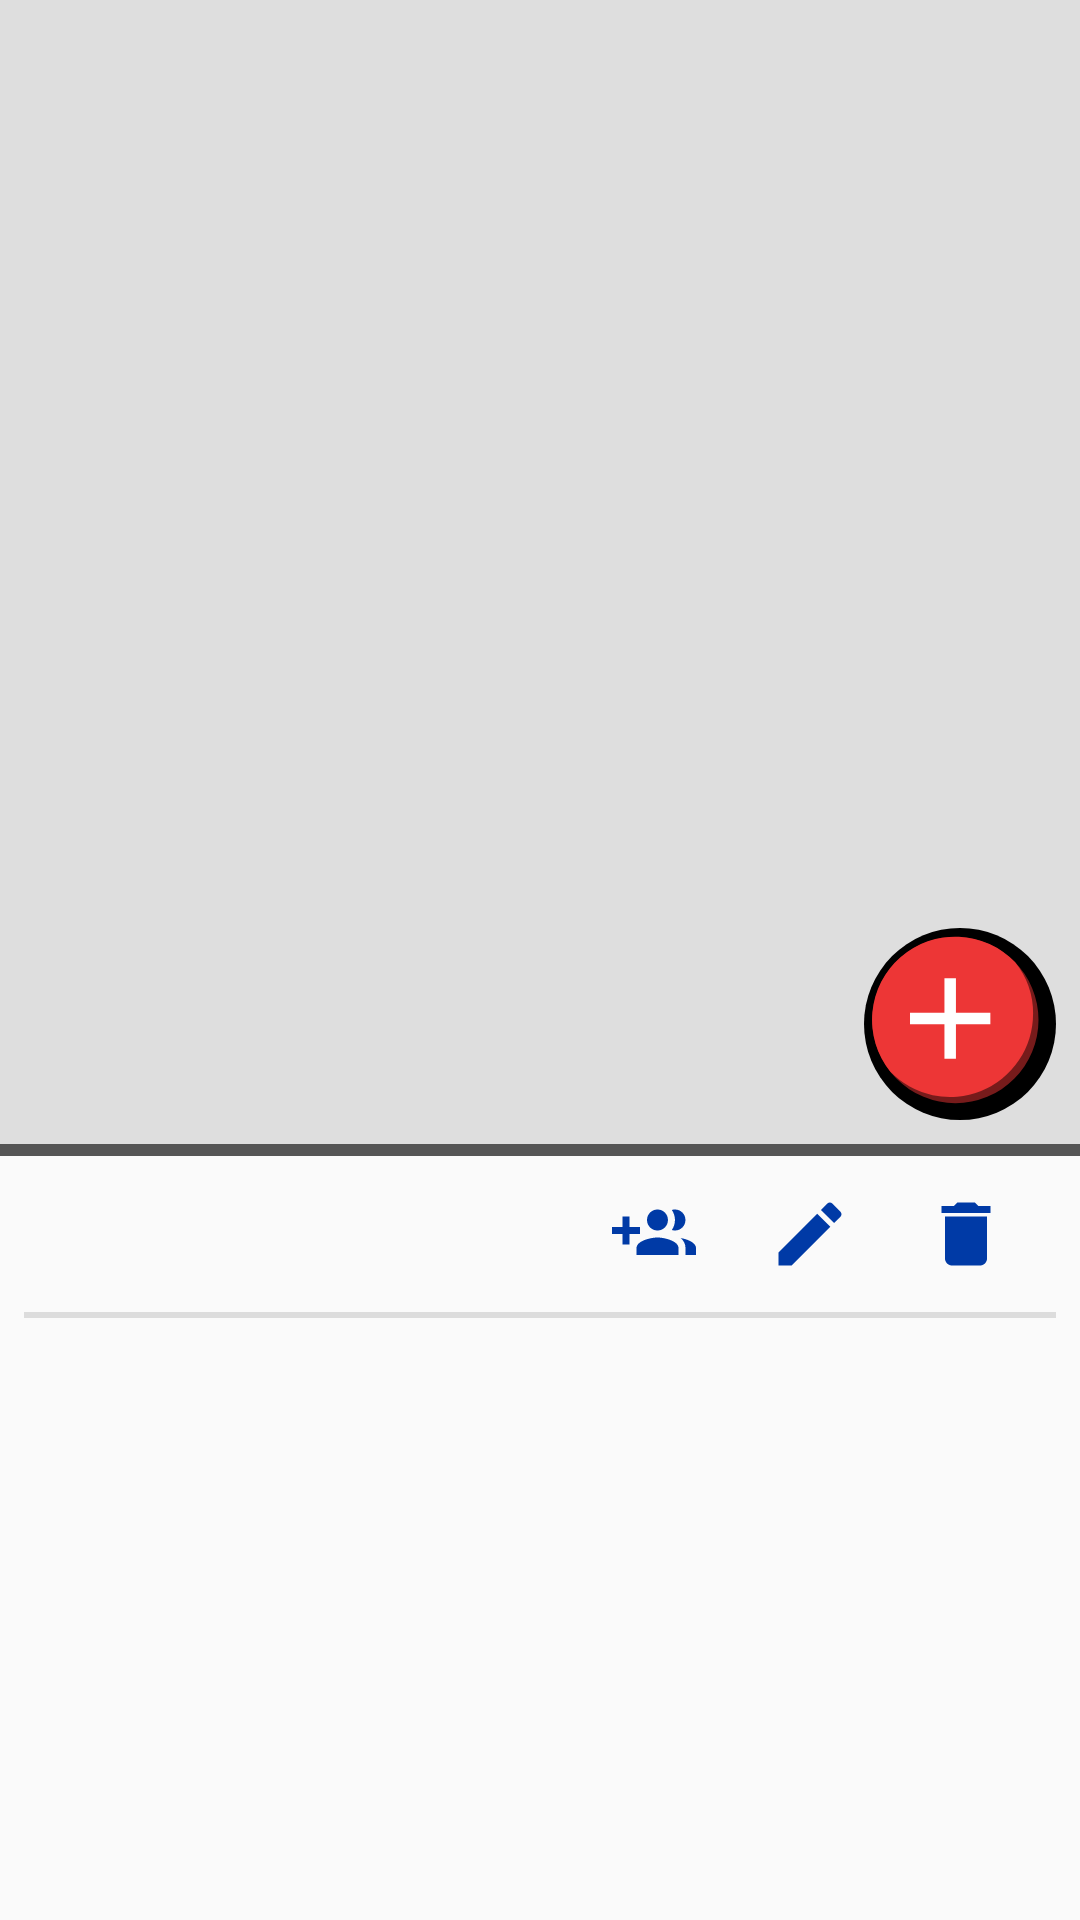

Point at icon controls on the screen. Image size 1080*1920, points as [x,y].
Delete the active pool: [966,1234]
New Pool: [960,1024]
Rename the active pool: [810,1234]
